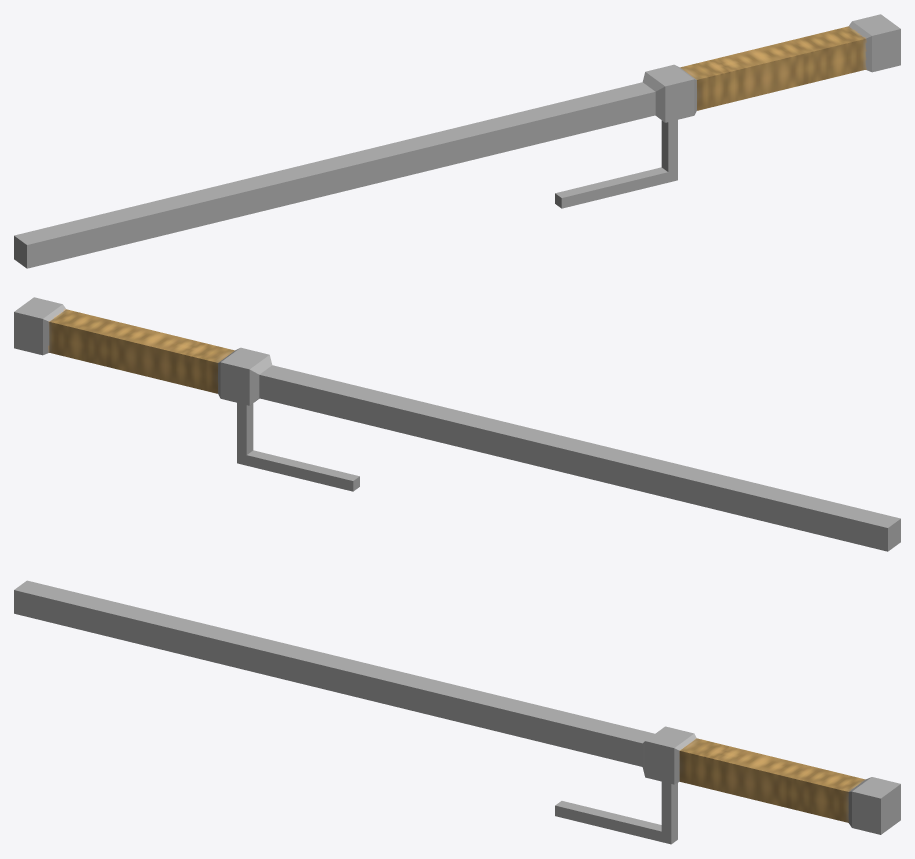
File: jitte.fbx
3 renders of one model, top to bottom at view 1: azimuth 30°, elevation 25°; view 2: azimuth 150°, elevation 25°; view 3: azimuth 330°, elevation 25°, orthographic.
Parts seen in each view (by area): view 1: Jitte; view 2: Jitte; view 3: Jitte.
Boxes of the visible parts, x1,y1,x2,y2 form: Jitte: (14,14,900,268); Jitte: (14,297,900,551); Jitte: (14,580,900,844).
Size of the model in its own units: 0.5546 by 0.0631 by 0.0222.
